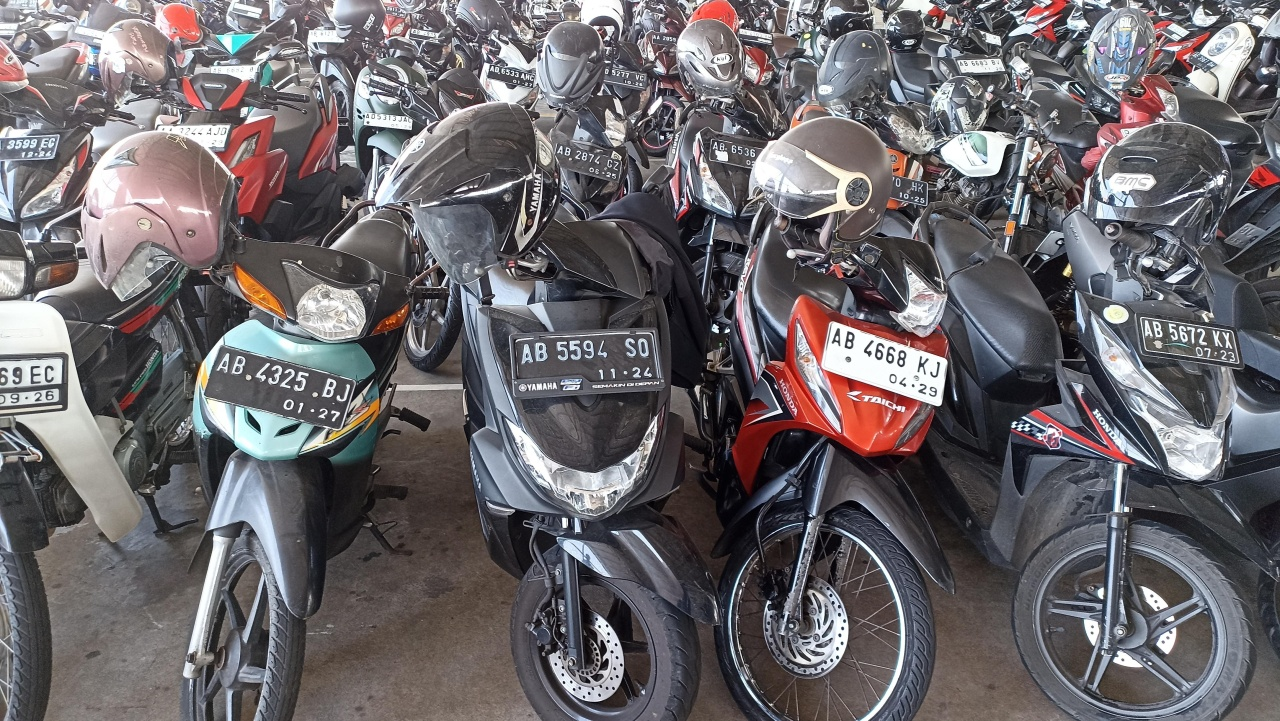plate: (204, 345, 357, 432), (821, 320, 950, 408), (511, 328, 666, 398), (1136, 311, 1244, 368), (552, 142, 622, 183), (487, 63, 535, 89), (955, 57, 1008, 75), (364, 112, 413, 130)
